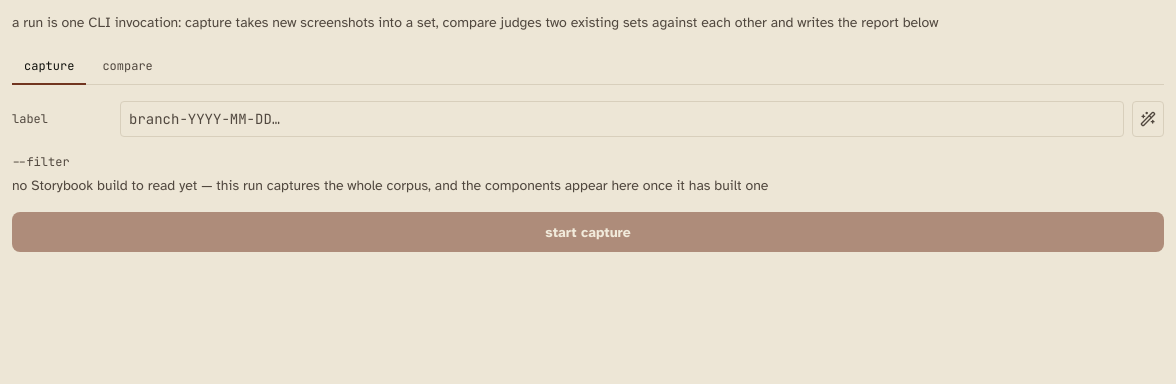
Scenario: starting a job › surfaces a refused start in the words the server refused with
The width and height of the screenshot is (1176, 384).
In the field labelled "label": (622, 119) top-left (120, 101), bottom-right (1124, 137), type "main-2026-08-17"
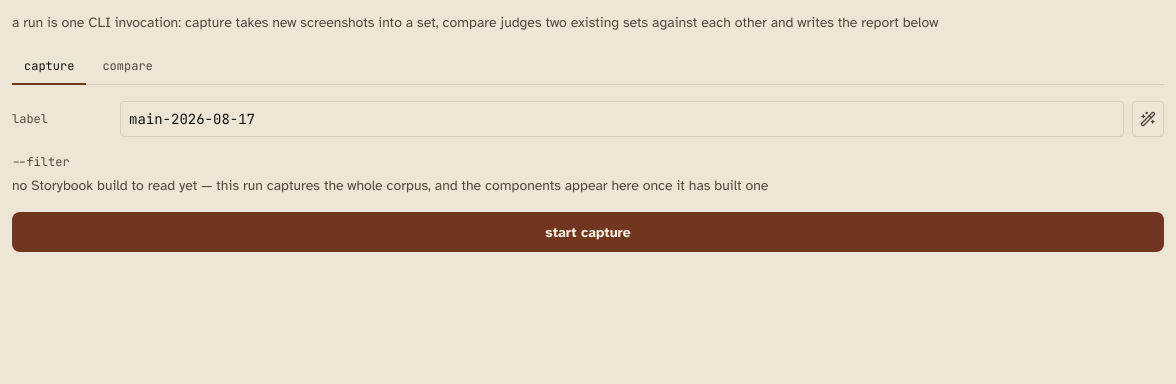
Click the button "start capture": (588, 232) top-left (12, 212), bottom-right (1164, 252)
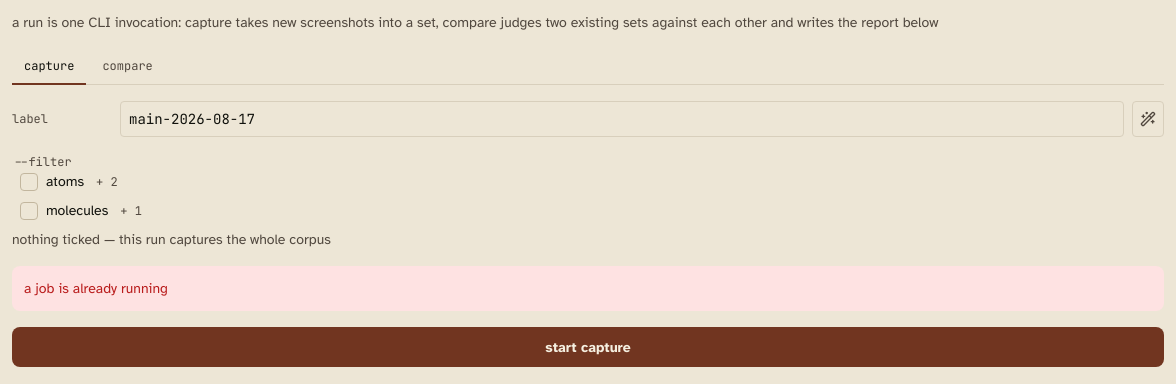
Check: the message reads "a job is already running", box top-left (24, 280), bottom-right (168, 297)
